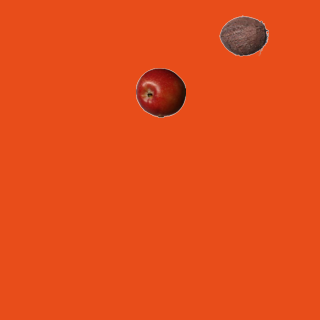Apple Braeburn: (135, 67, 185, 117)
Cocos: (218, 10, 268, 60)
